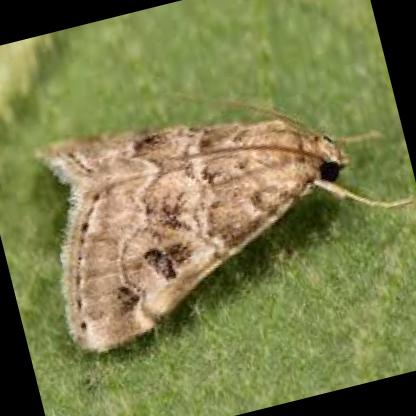Hellula undalis: (28, 80, 416, 360)
